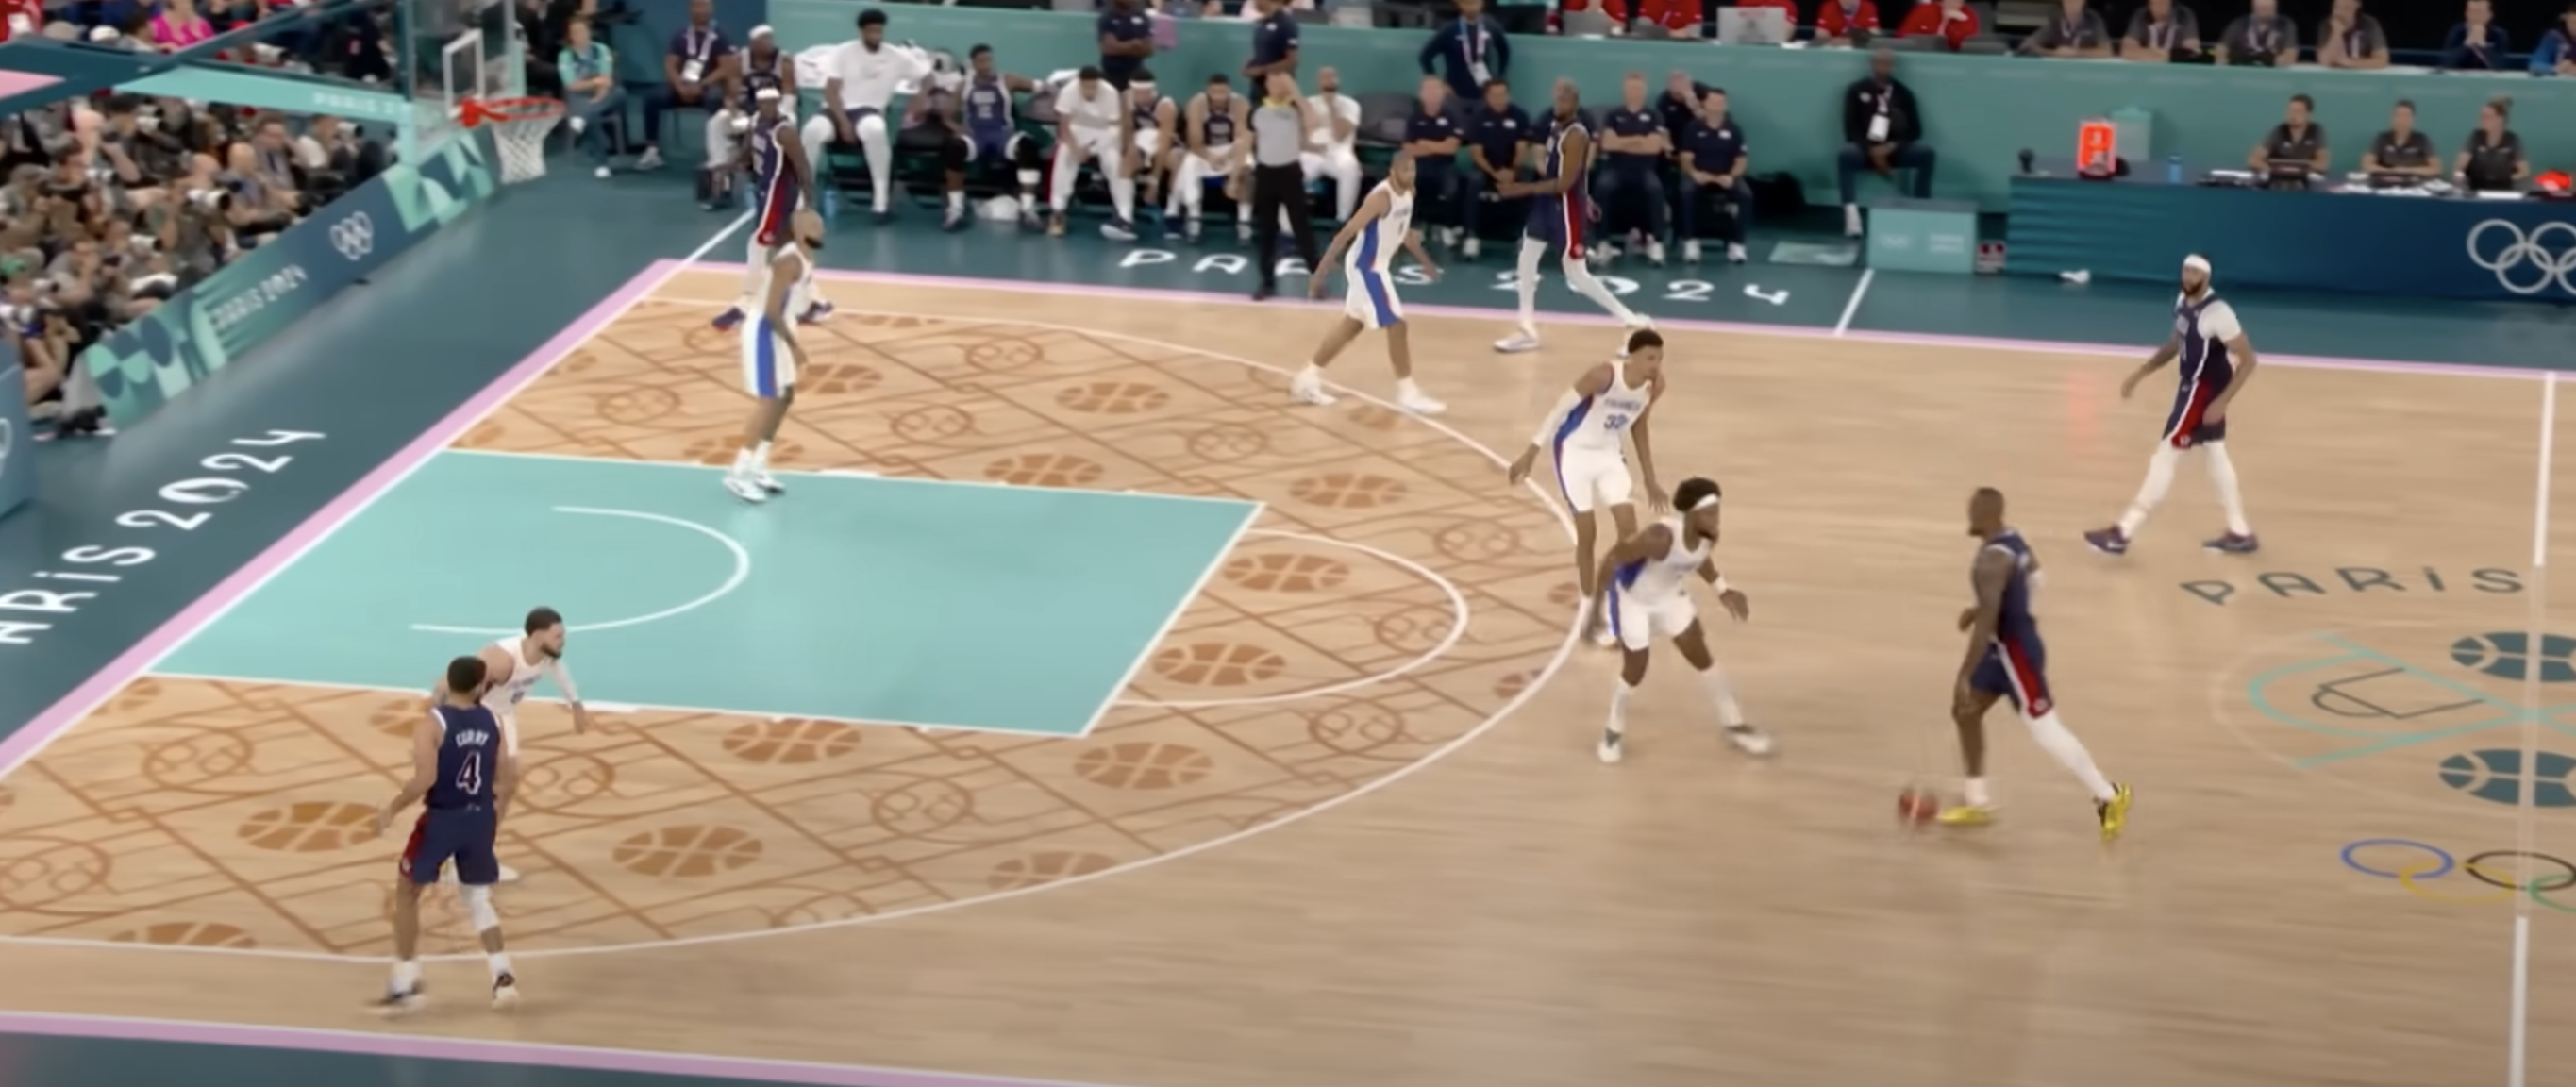ball: (1899, 785, 1939, 824)
